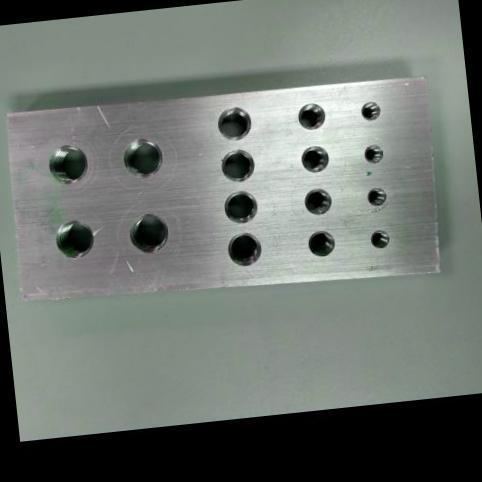hole: (118, 134, 164, 180), (45, 140, 89, 186), (126, 208, 170, 254), (52, 216, 96, 260), (224, 228, 263, 268), (214, 103, 253, 142), (221, 186, 259, 224), (219, 146, 256, 184), (294, 98, 326, 130), (298, 142, 330, 174), (300, 184, 332, 216), (305, 226, 337, 258), (358, 98, 381, 121), (362, 140, 384, 164), (368, 226, 390, 250), (365, 184, 387, 206)
